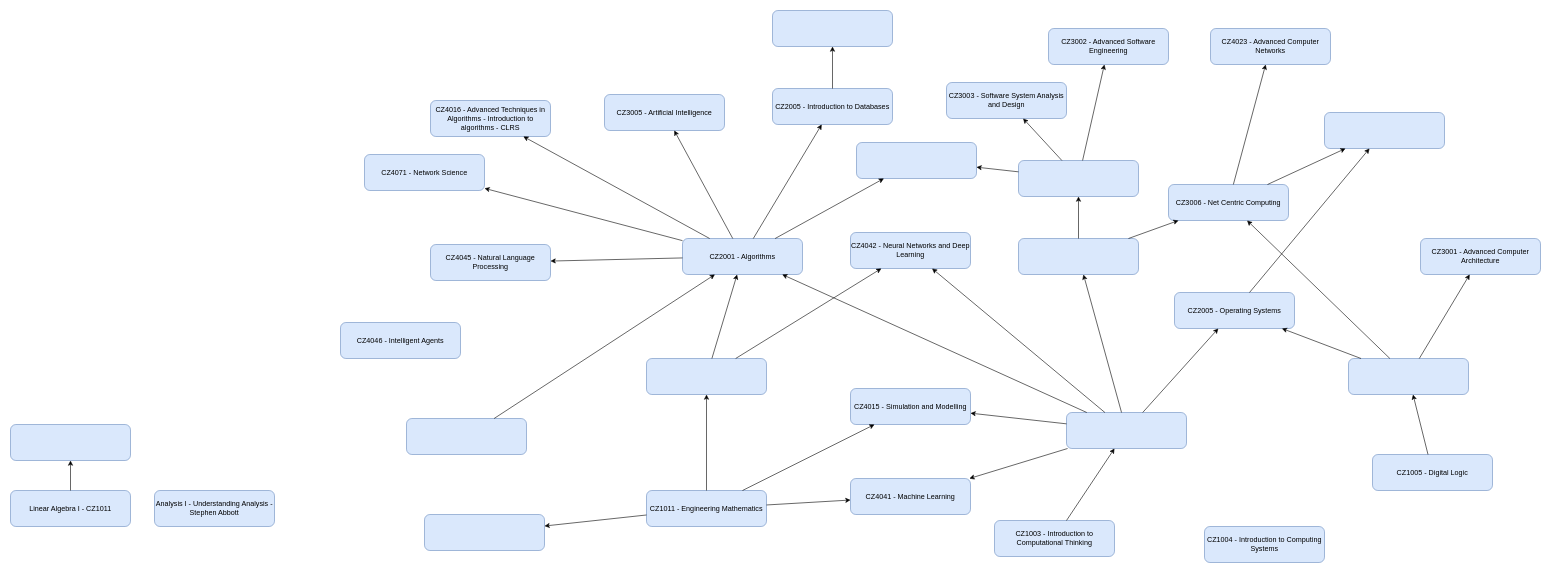
Some shapes in this 1551 by 573 pixel diagram are drawn without their labels. Here are the shapes that lost their labels. From the top down, the box of each, then its label:
(772, 10, 892, 46): CZ4031 - Database System Principles
(1324, 112, 1444, 148): CZ4013 - Distributed Systems
(856, 142, 976, 178): CZ3007 - Compiler Techniques
(1018, 160, 1138, 196): CZ2006 - Software Engineering
(1018, 238, 1138, 274): CZ2002 - Object Oriented Programming
(646, 358, 766, 394): CZ1012 - Engineering Mathematics
(1348, 358, 1468, 394): CZ1006 - Computer Organisation and Architecture
(10, 424, 130, 460): Linear Algebra II - Linear Algebra Done Right -Sheldon Axler
(406, 418, 526, 454): MH1812 - Discrete Mathematics
(1066, 412, 1186, 448): CZ1007 - Data Structures
(424, 514, 544, 550): CZ2003 - Computer Graphics
